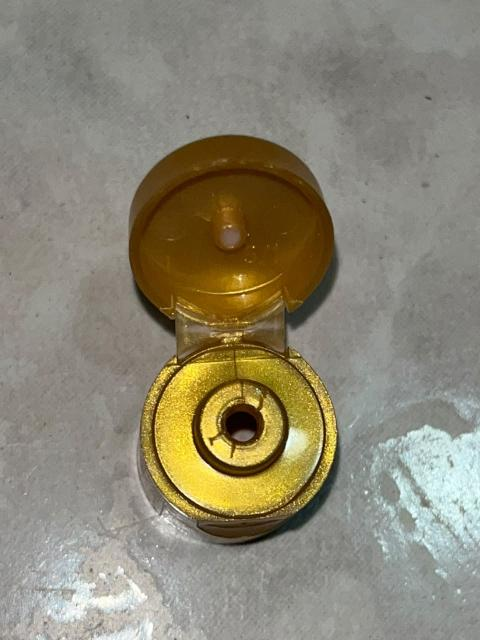HDPE: (97, 93, 395, 573)
